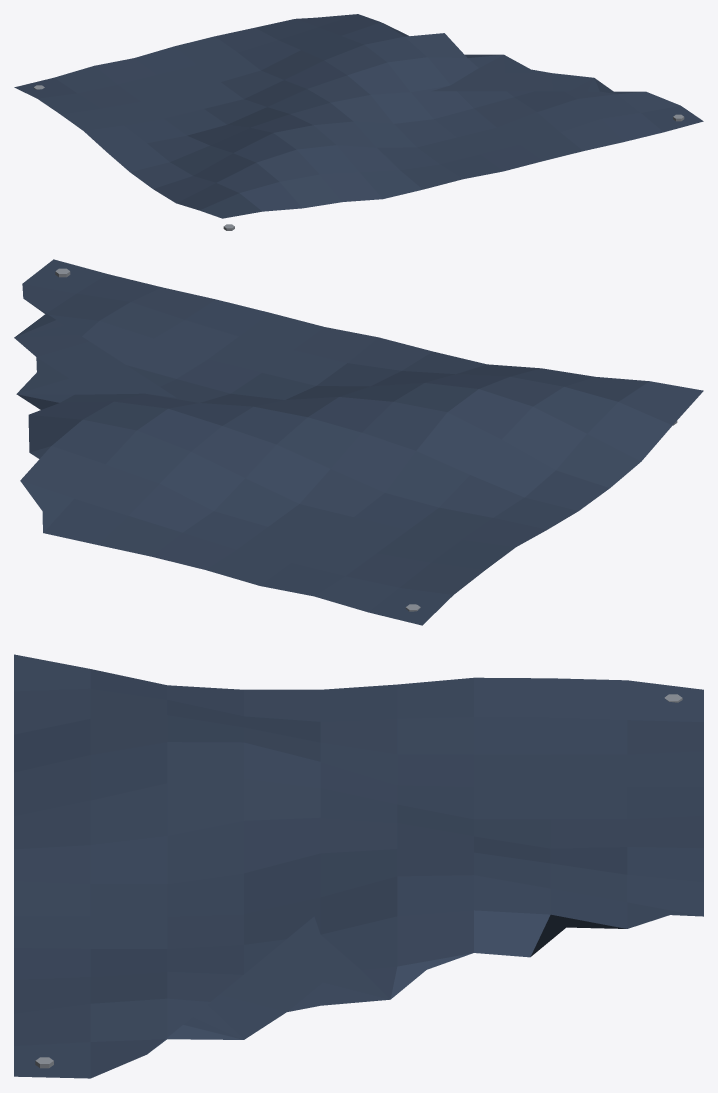
File: garden_tarp.fbx
3 views of the same model, one above another, from view 1: azimuth 30°, elevation 25°; view 2: azimuth 150°, elevation 25°; view 3: azimuth 270°, elevation 25° (orthographic). The views are drawn at different scales.
Visible parts, largest first — view 1: garden_tarp; view 2: garden_tarp; view 3: garden_tarp.
Part boxes in pixels (<box>): garden_tarp: <box>14,14,703,230</box>; garden_tarp: <box>14,259,703,625</box>; garden_tarp: <box>14,654,703,1078</box>.
Bounding box in the file's own units: 1.2 × 0.9 × 0.0646.
